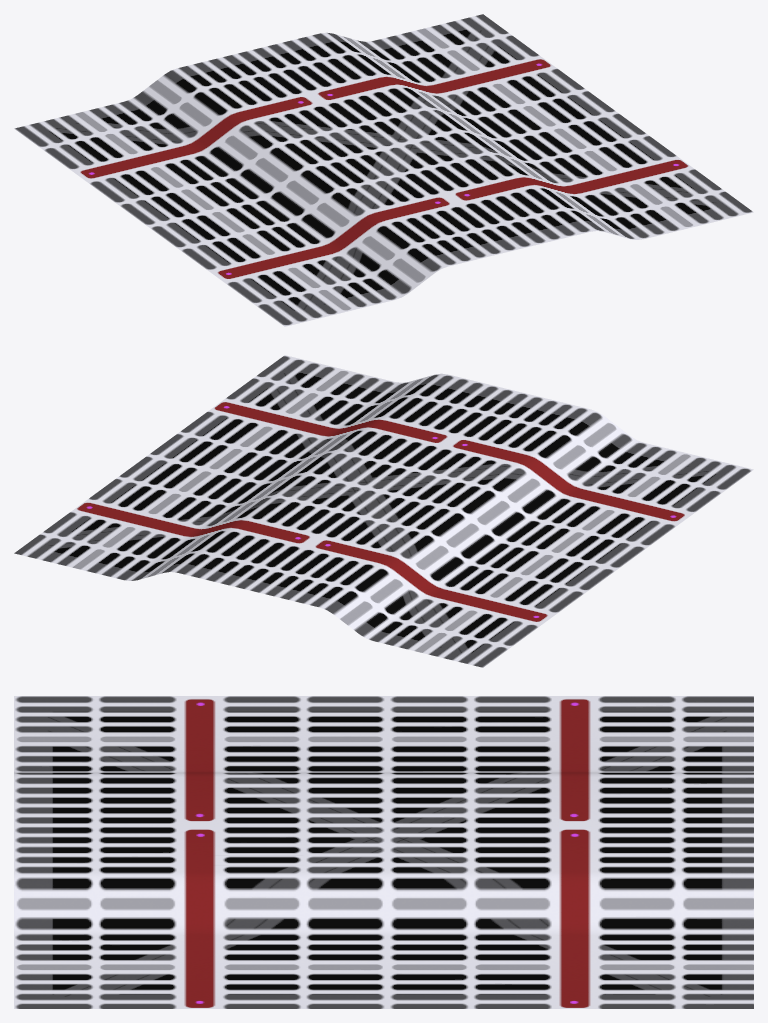
Rendered from Roof_Simple_01.FBX.
3 views of the same model, one above another, from view 1: azimuth 30°, elevation 25°; view 2: azimuth 150°, elevation 25°; view 3: azimuth 270°, elevation 25° (orthographic). The views are drawn at different scales.
Visible parts, largest first — view 1: Roof_Simple_01; view 2: Roof_Simple_01; view 3: Roof_Simple_01.
Boxes of the visible parts, <box> form: Roof_Simple_01: <box>14,14,753,326</box>; Roof_Simple_01: <box>14,355,753,667</box>; Roof_Simple_01: <box>14,696,753,1008</box>.
Size of the model in its own units: 6 by 0.25 by 6.
